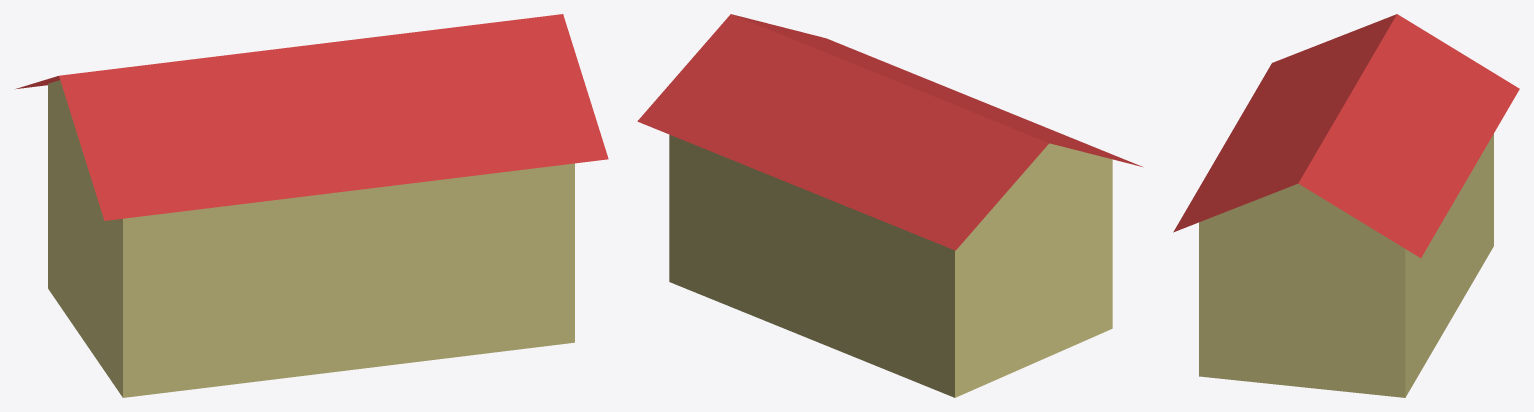
3 views of the same model, side by side, from view 1: azimuth 30°, elevation 25°; view 2: azimuth 150°, elevation 25°; view 3: azimuth 270°, elevation 25° (orthographic). The views are drawn at different scales.
Bounding box in the file's own units: 21.66 × 16.25 × 10.98.
